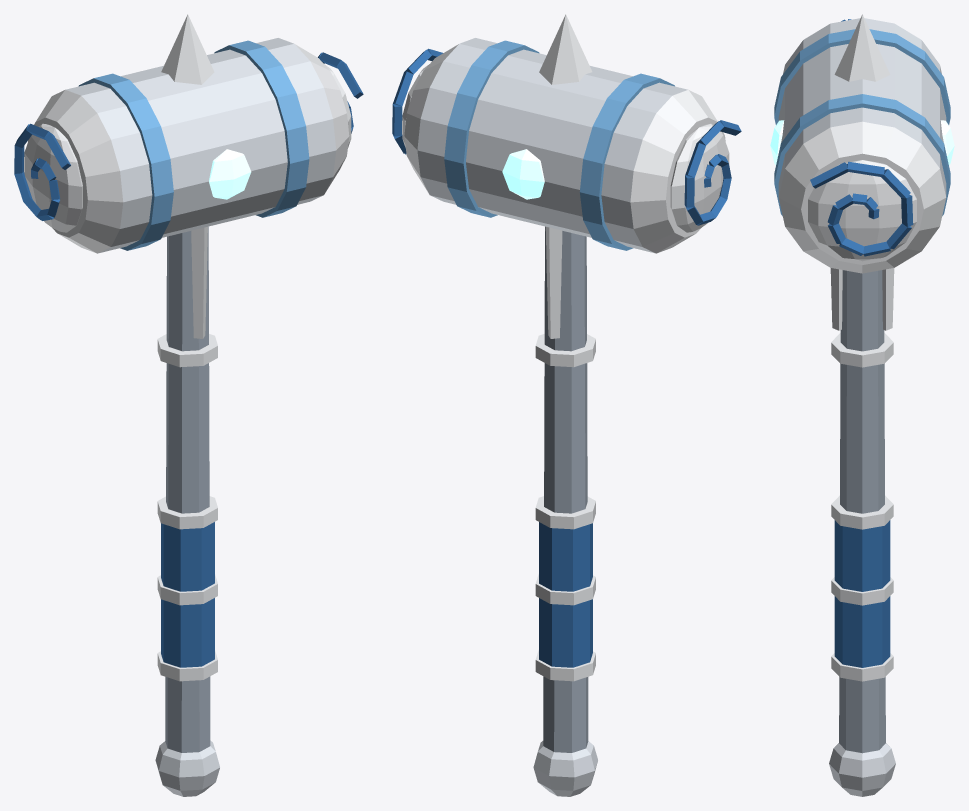
File: cloud_giant_maul.glb
The picture shows the model from 3 angles, left to right: view 1: azimuth 30°, elevation 25°; view 2: azimuth 150°, elevation 25°; view 3: azimuth 270°, elevation 25°; orthographic projection.
Parts seen in each view (by area): view 1: cloud_giant_maul; view 2: cloud_giant_maul; view 3: cloud_giant_maul.
Part boxes in pixels (box(x1,y1,x2,y2)): cloud_giant_maul: box(14, 14, 363, 796); cloud_giant_maul: box(392, 14, 741, 796); cloud_giant_maul: box(770, 14, 954, 796).
Bounding box in the file's own units: 0.624 × 1.54 × 0.33.
